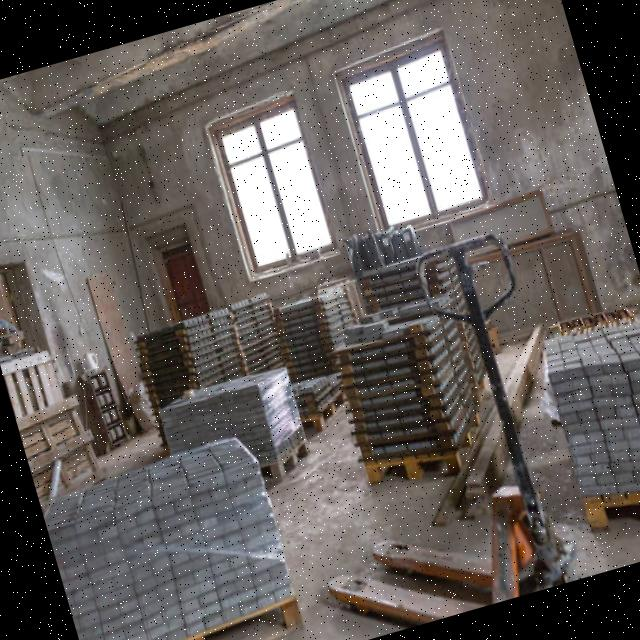Wooden-Pallets: (361, 406, 481, 487), (171, 585, 313, 640), (276, 430, 317, 482)
